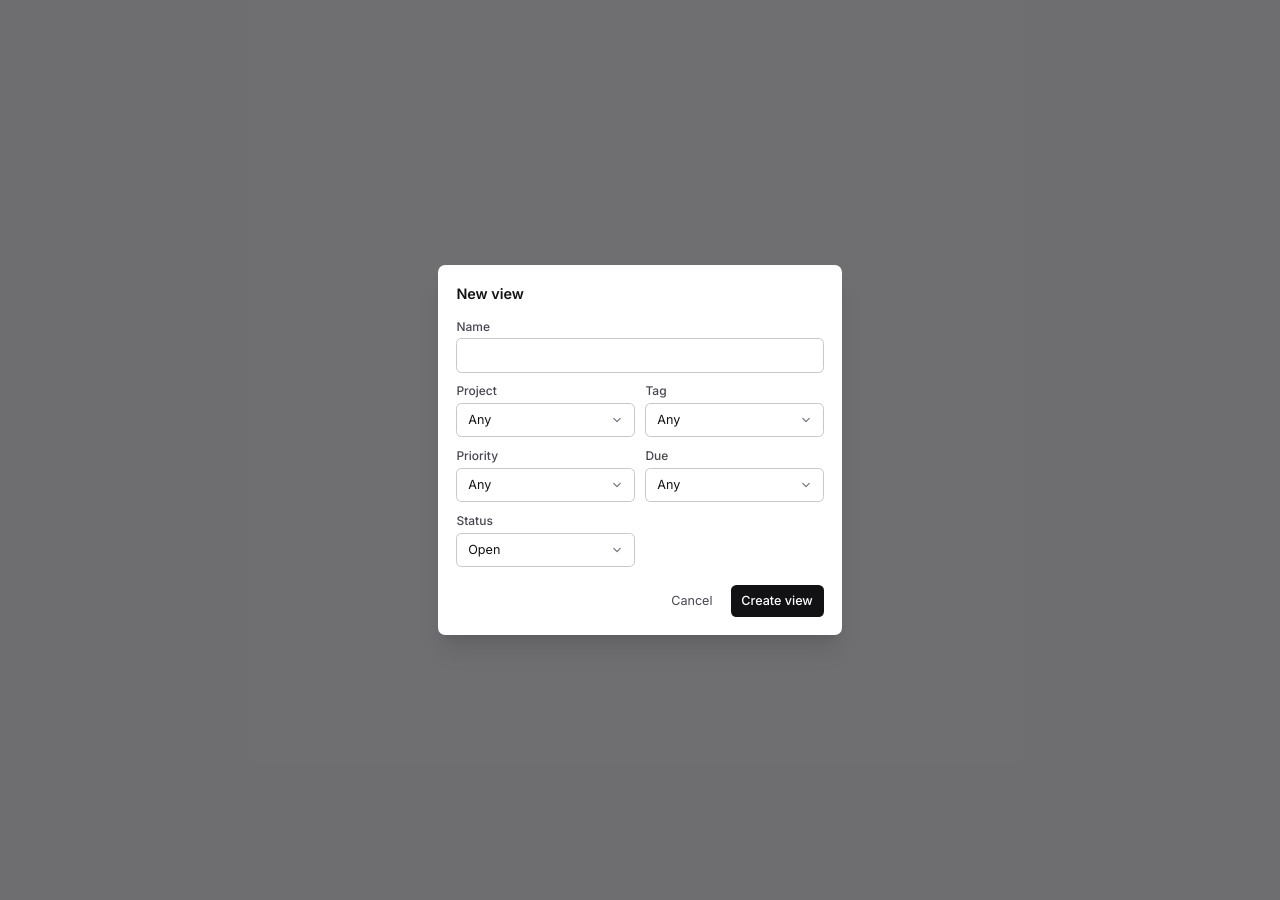
Test case: NewViewDialog › shows an error and stays open when the server refuses
Type "Broken" into the field labelled "Name" at (640, 356), box [456,338,824,373]
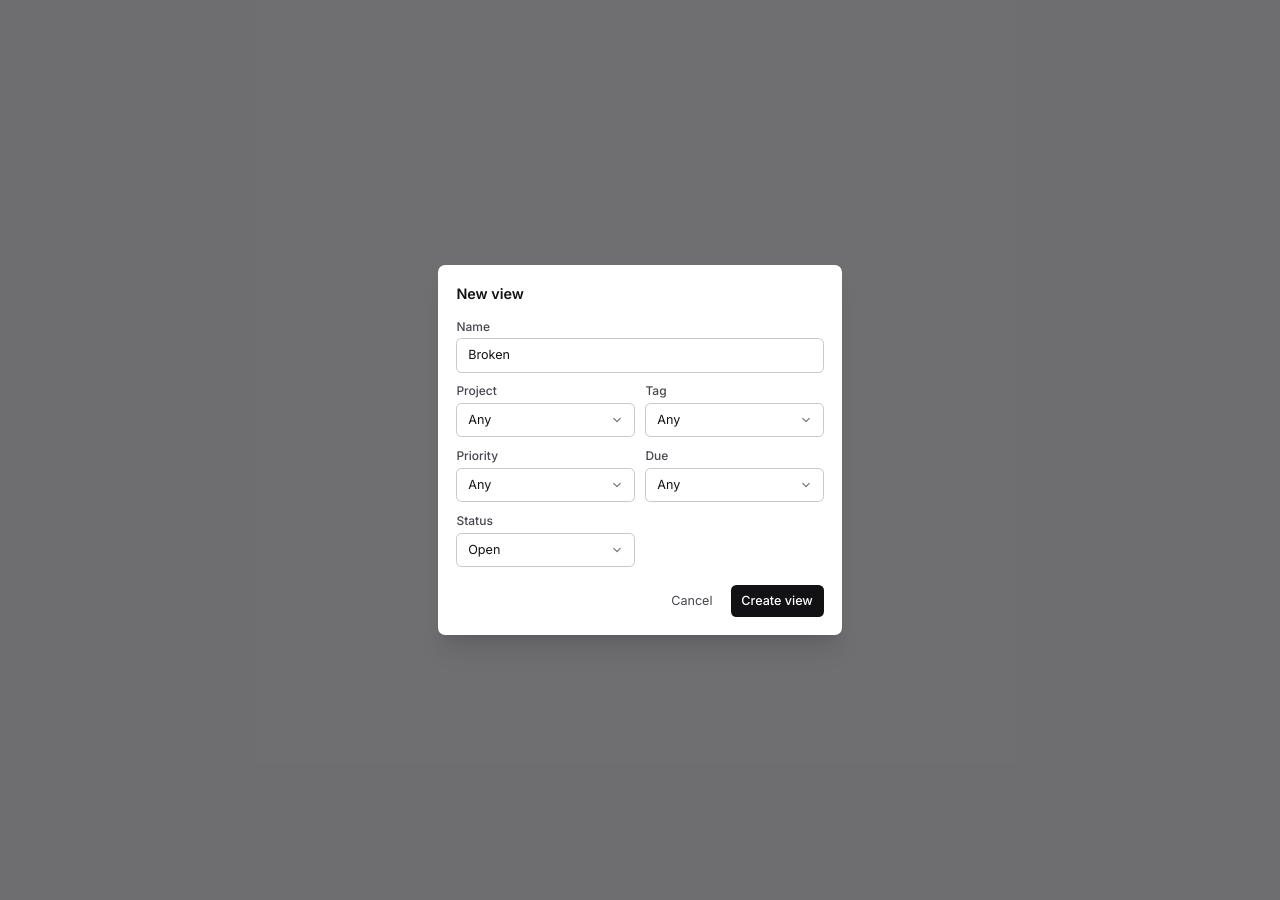
Click the button "Create view" at (777, 601), box [730,585,824,617]
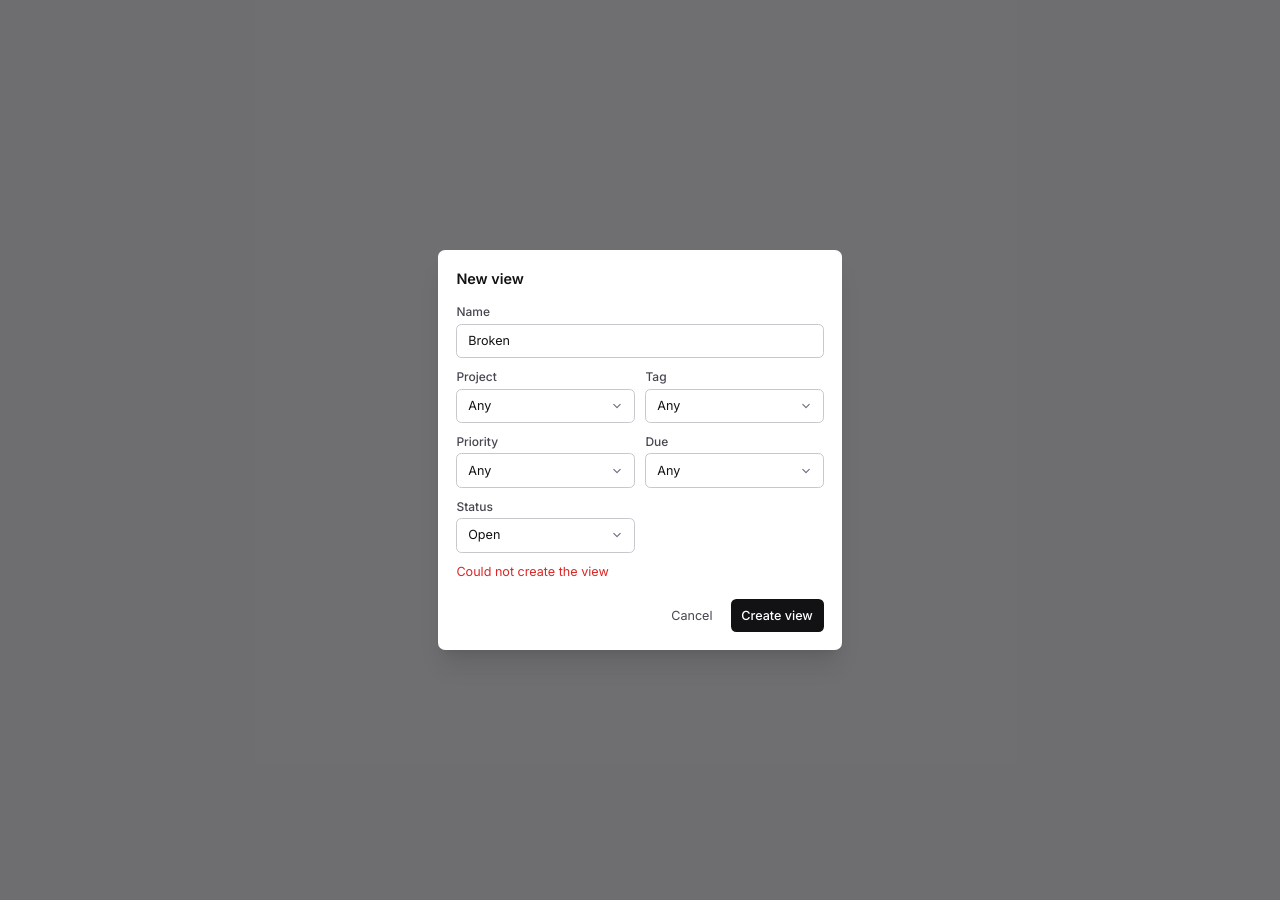
Check: the text "Could not create the view" is shown, box [456,564,609,579]
